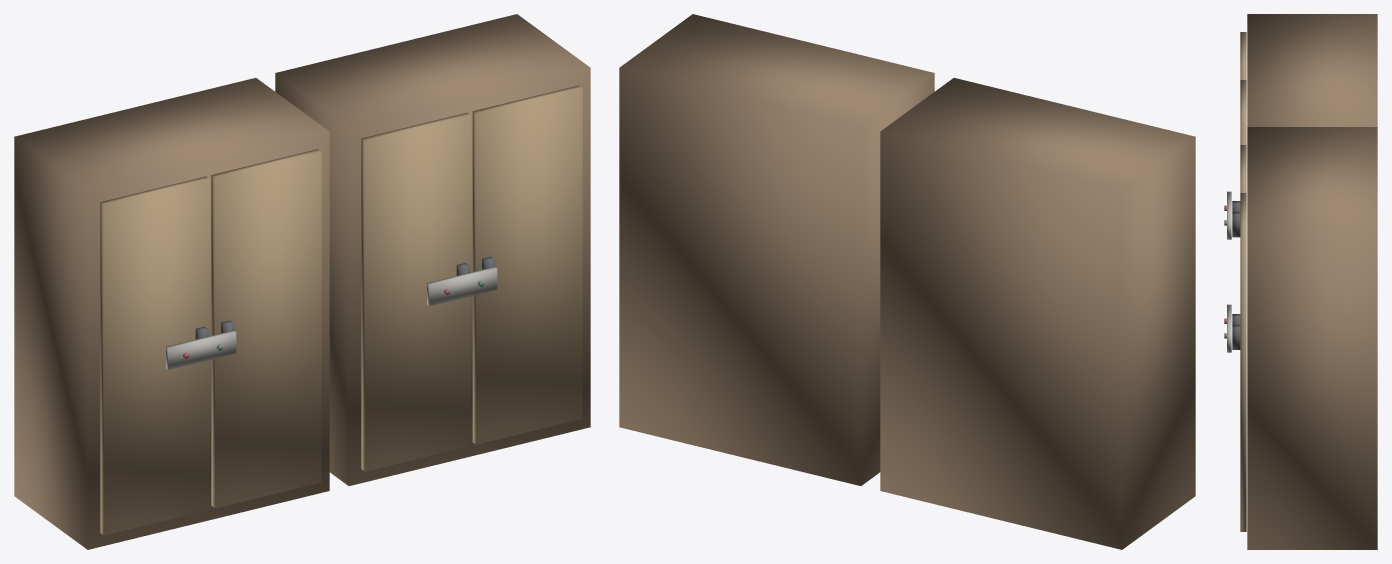
The model's file is tv_stand__cluster.glb.
The picture shows the model from 3 angles, left to right: view 1: azimuth 30°, elevation 25°; view 2: azimuth 150°, elevation 25°; view 3: azimuth 270°, elevation 25°; orthographic projection. The views are drawn at different scales.
Parts seen in each view (by area): view 1: world; view 2: world; view 3: world.
Boxes of the visible parts, <box> form: world: <box>14,14,590,549</box>; world: <box>619,14,1195,549</box>; world: <box>1224,14,1377,549</box>.
Bounding box in the file's own units: 1.98 × 1.35 × 0.5885.
